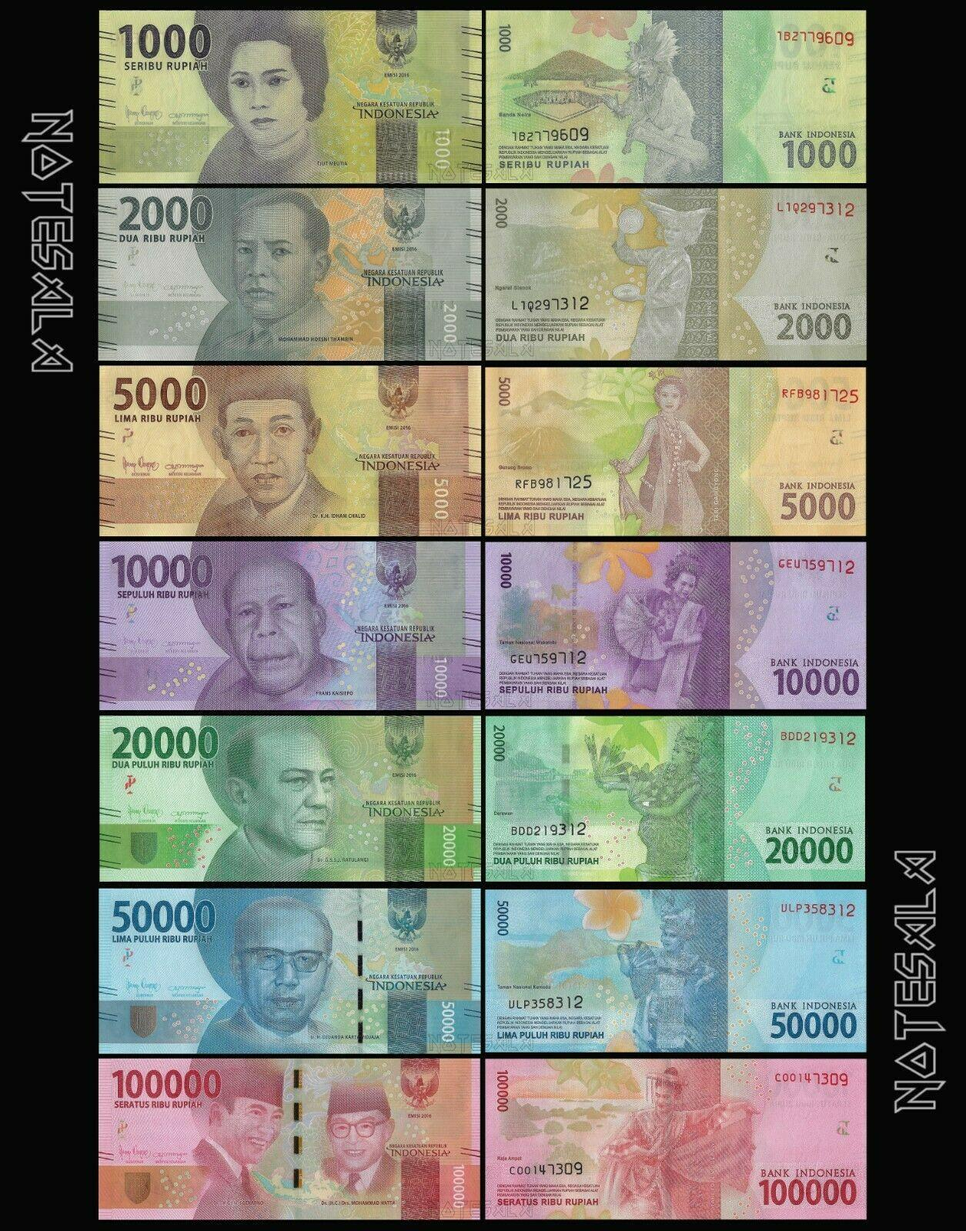1000IndonesianRupiah: (95, 0, 482, 177)
